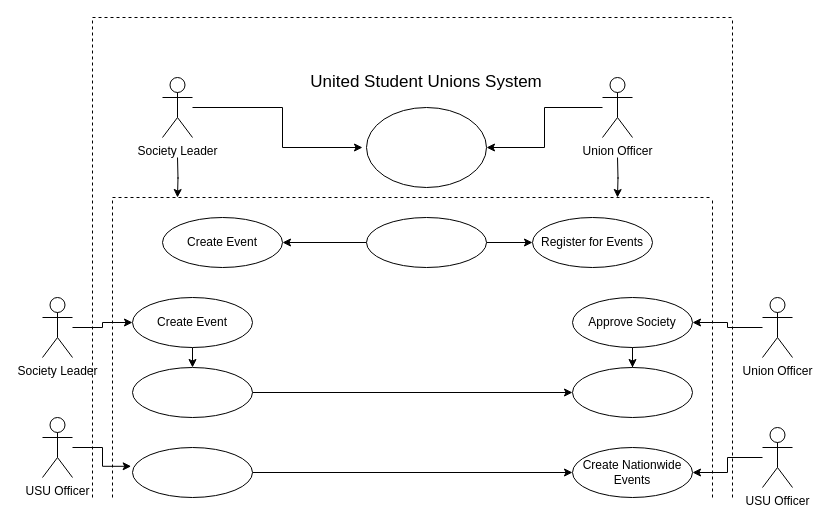
Image size: 829x526. Some labels were removed from this diagram. The shapes that lost their labels are listed below. From the top down, each one's centre as x and y in pixels, then its label:
At point 426,147: "Join Society".
At point 426,242: "View Events".
At point 192,392: "Manage Members".
At point 632,392: "Manage Societies".
At point 192,472: "Manage Unions".
